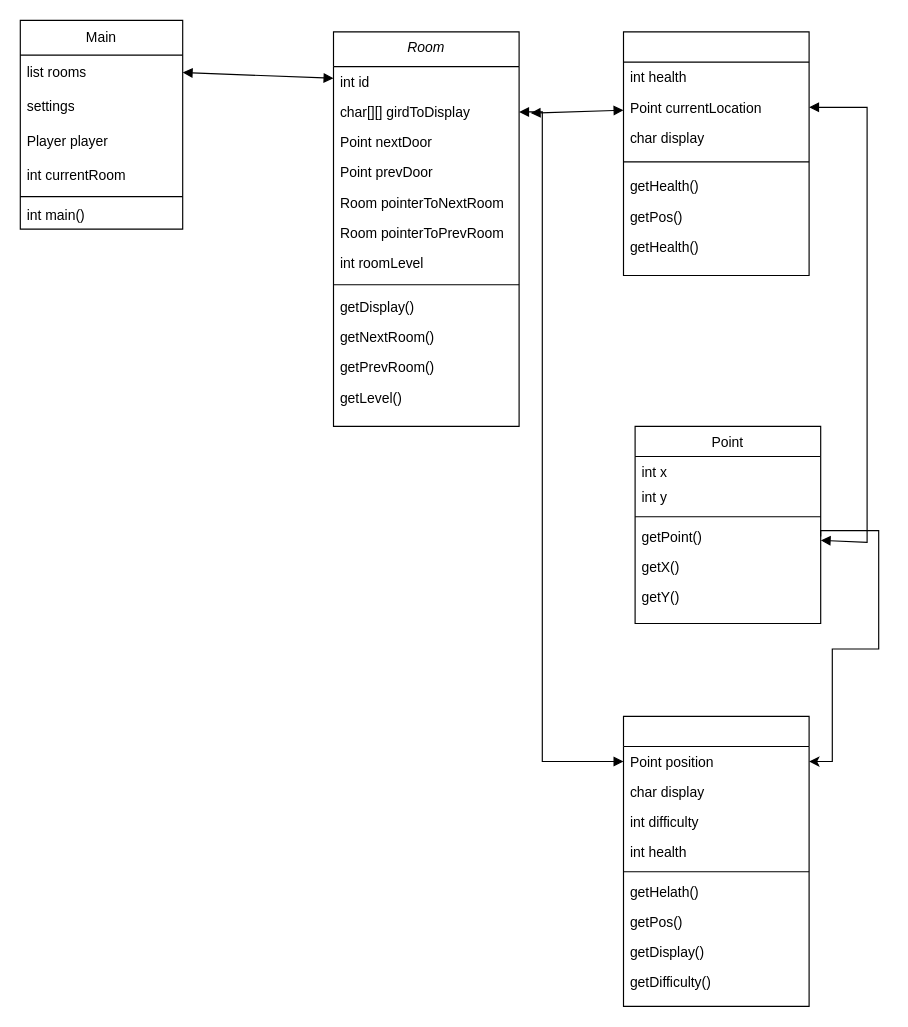
This 908x1027 diagram has some shape labels left out. Each missing label, with the box of its shape:
Enermy: (622, 715, 809, 1006)
Player: (622, 31, 809, 276)
